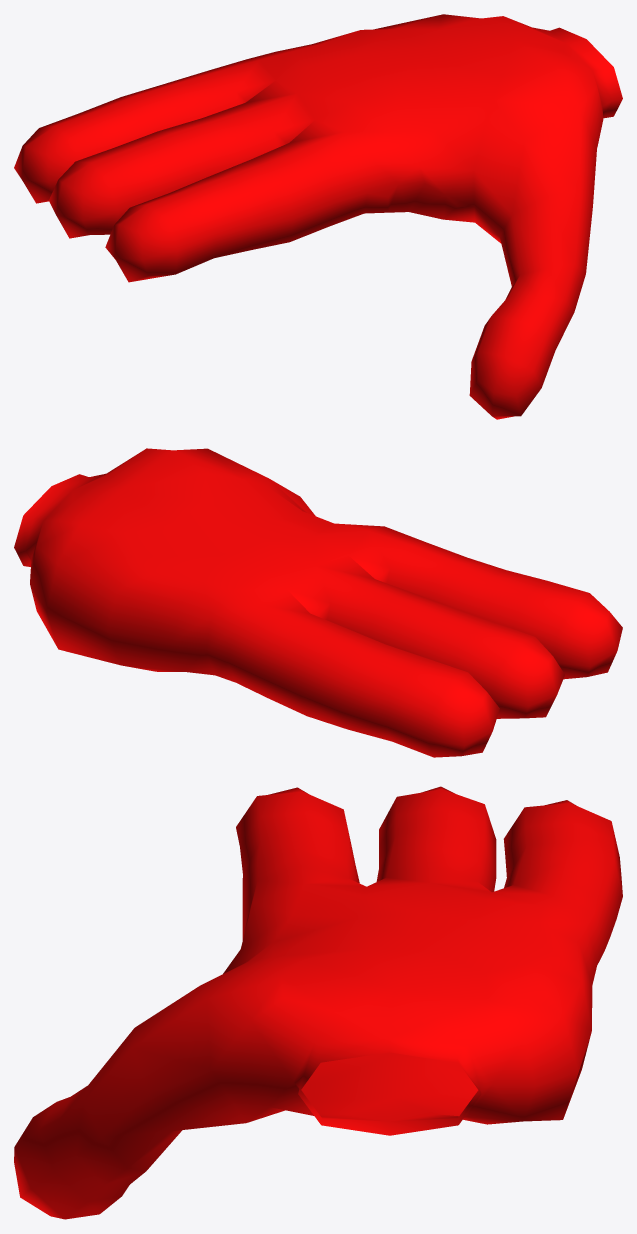
Rendered from openHand.dae.
3 renders of one model, top to bottom at view 1: azimuth 30°, elevation 25°; view 2: azimuth 150°, elevation 25°; view 3: azimuth 270°, elevation 25°, orthographic. The views are drawn at different scales.
Parts seen in each view (by area): view 1: openHand; view 2: openHand; view 3: openHand.
Part boxes in pixels (bbox=[...]): openHand: bbox=[14, 14, 622, 419]; openHand: bbox=[14, 448, 622, 757]; openHand: bbox=[14, 786, 622, 1219].
Bounding box in the file's own units: 12.66 × 10.33 × 6.09.
